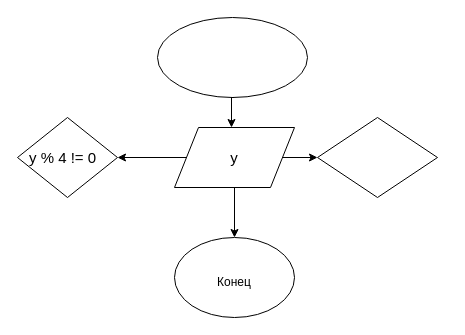
Image size: 465x335. Some labels were removed from this diagram. The centre of each missing label's shape, as x and y in pixels:
y % 400 == 0: point 377,157
Начало: point 232,57
